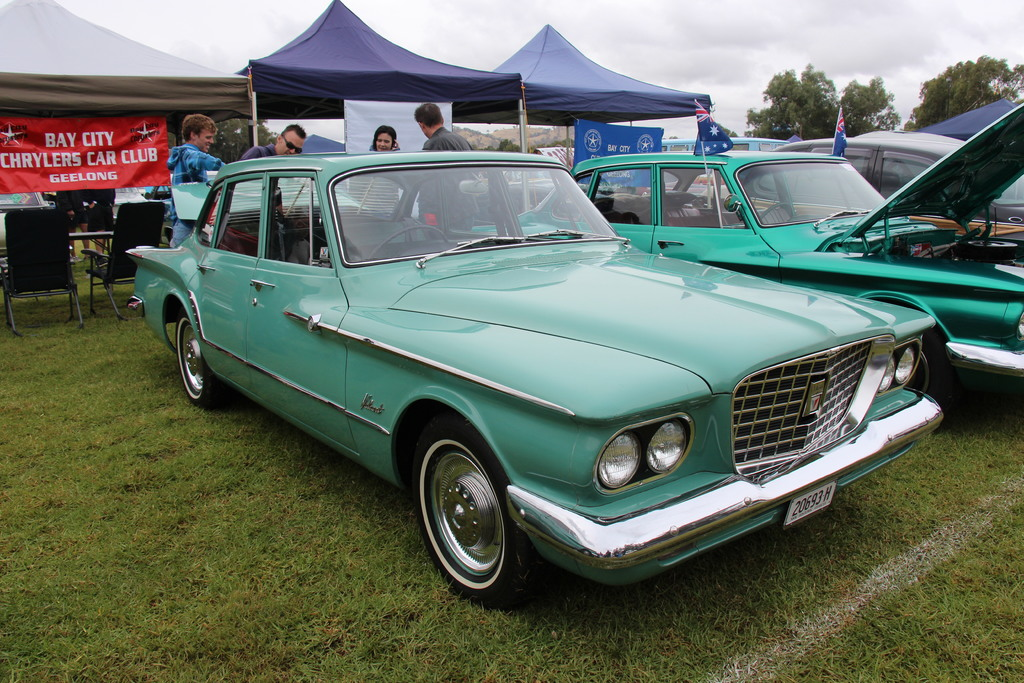Car: (121, 149, 947, 611), (475, 103, 1023, 403), (700, 130, 1023, 264)
